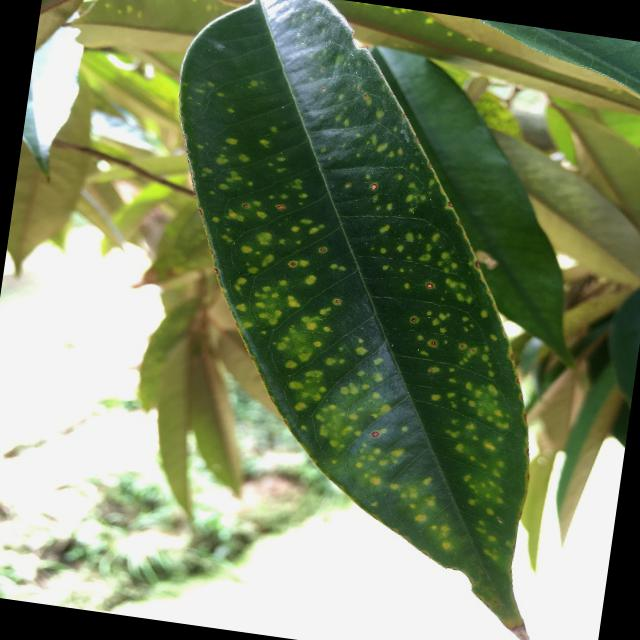Leaf Spot: (102, 0, 620, 639)
